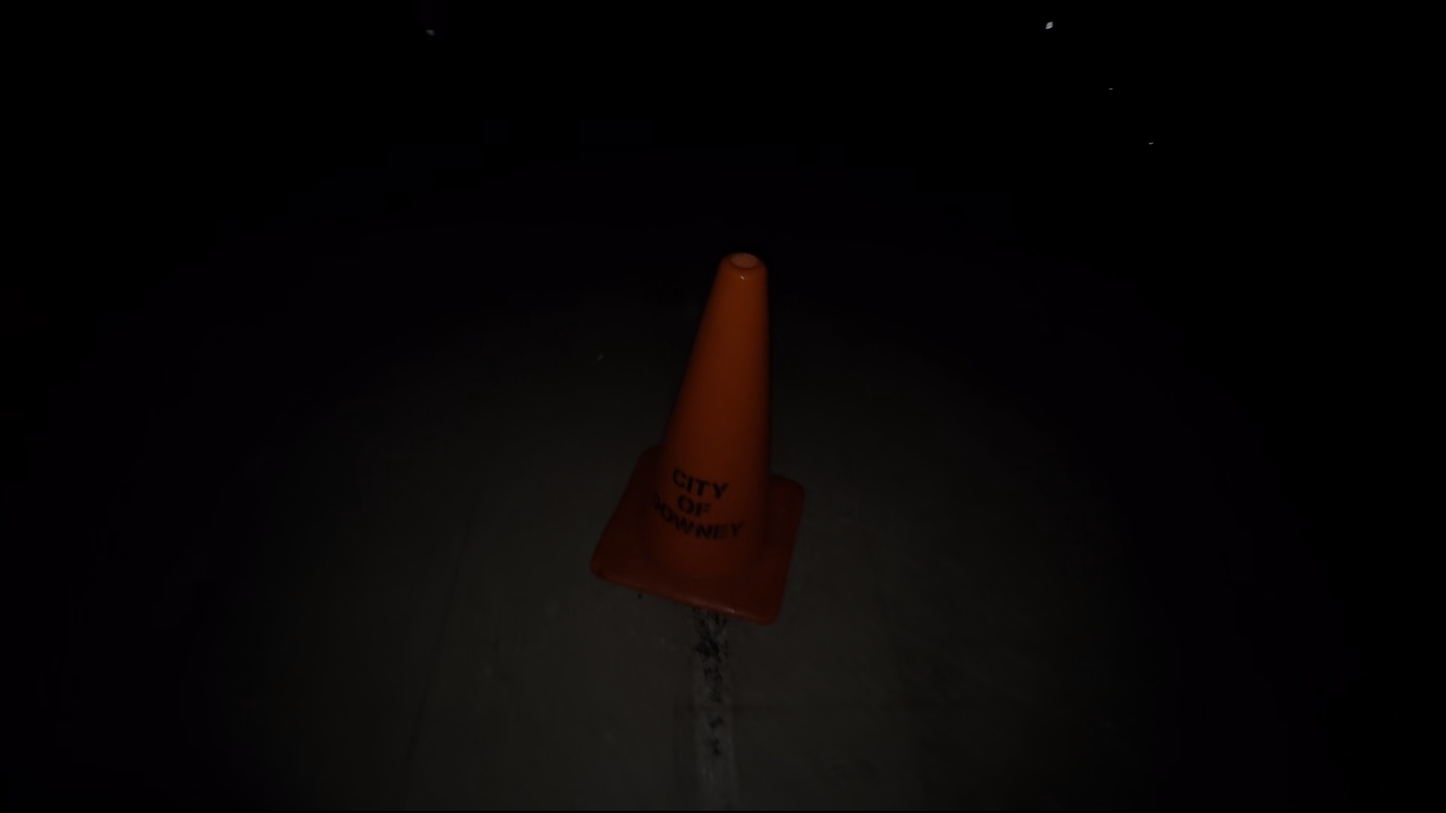traffic_cone: (588, 250, 806, 625)
